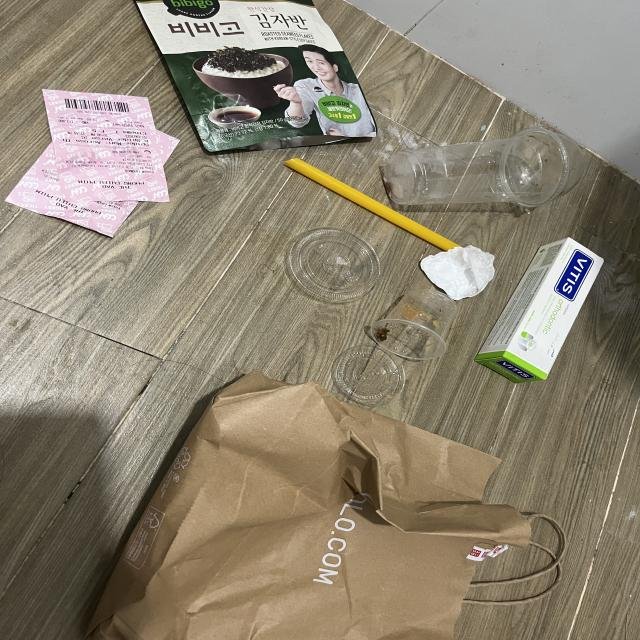bag: (95, 365, 559, 640)
cardboard box: (475, 237, 606, 385)
drinking straw: (285, 157, 461, 248)
lid: (288, 227, 380, 303), (332, 346, 407, 406)
napkin: (421, 245, 496, 300)
paper: (5, 88, 181, 239)
plastic glass: (385, 129, 589, 206)
plastic holder: (368, 291, 458, 360)
snack package: (134, 0, 378, 153)
